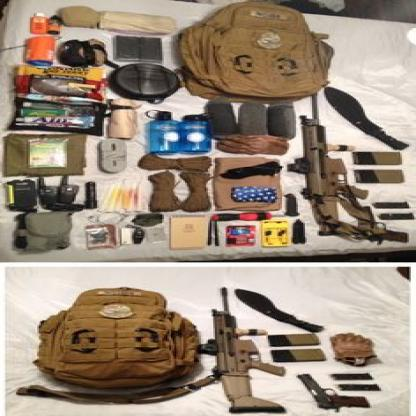Gun: (286, 90, 416, 245), (201, 285, 290, 416)
Knife: (321, 82, 415, 153), (230, 287, 328, 336)
Pistol: (290, 372, 375, 414)
